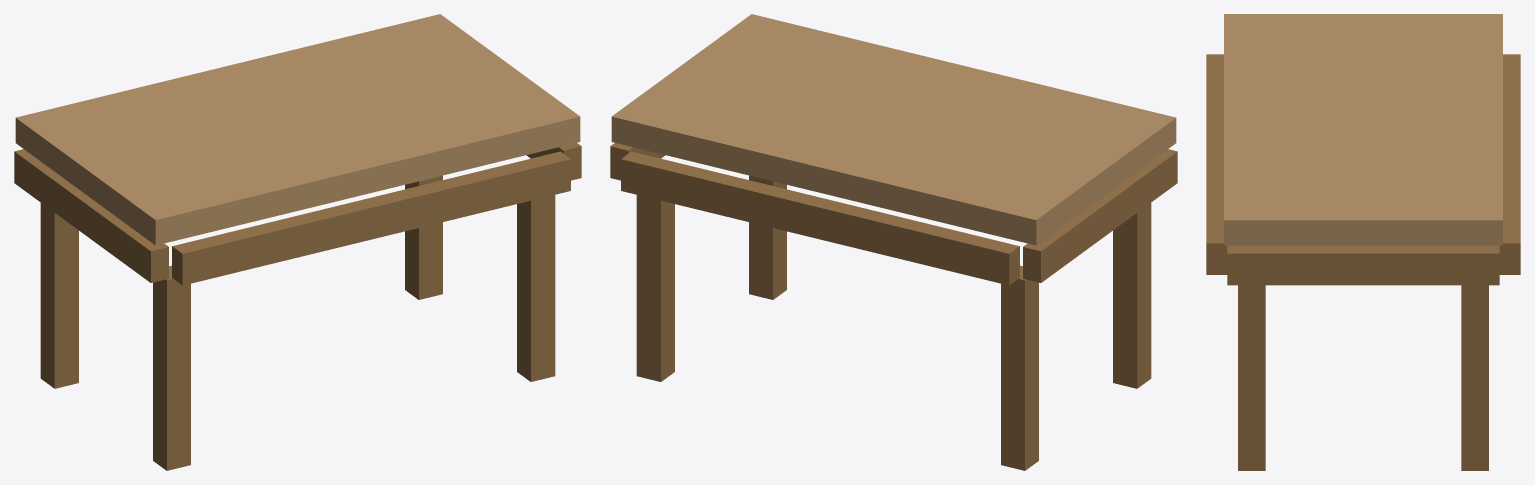
The model's file is table.glb.
3 renders of one model, left to right at view 1: azimuth 30°, elevation 25°; view 2: azimuth 150°, elevation 25°; view 3: azimuth 270°, elevation 25°, orthographic.
Visible parts, largest first — view 1: Cube, Cube.002, Cube.007, Cube.008, Cube.005, Cube.004, Cube.006, Cube.003; view 2: Cube, Cube.001, Cube.005, Cube.006, Cube.007, Cube.004, Cube.008, Cube.003; view 3: Cube, Cube.003, Cube.006, Cube.008, Cube.001, Cube.002.
Boxes of the visible parts, x1,y1,x2,y2 form: Cube: (15,14,580,245); Cube.002: (172,151,570,285); Cube.007: (153,265,190,470); Cube.008: (517,195,555,381); Cube.005: (40,203,78,388); Cube.004: (14,149,168,282); Cube.006: (405,175,442,299); Cube.003: (526,143,581,180); Cube: (611,14,1176,245); Cube.001: (621,151,1019,285); Cube.005: (1001,265,1038,470); Cube.006: (636,195,674,381); Cube.007: (1113,203,1151,388); Cube.004: (1023,149,1177,282); Cube.008: (749,175,786,299); Cube.003: (610,143,665,180); Cube: (1224,14,1502,245); Cube.003: (1227,245,1499,285); Cube.006: (1461,285,1488,470); Cube.008: (1238,285,1265,470); Cube.001: (1499,54,1520,274); Cube.002: (1206,54,1227,274).
Bounding box in the file's own units: 1.42 × 0.82 × 0.9.
